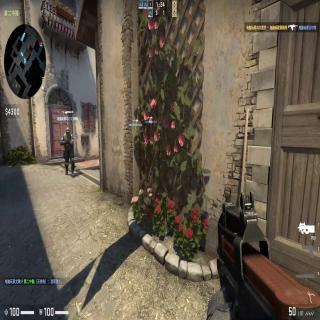CT-Body: (59, 127, 76, 177)
CT-Head: (65, 128, 70, 136)
